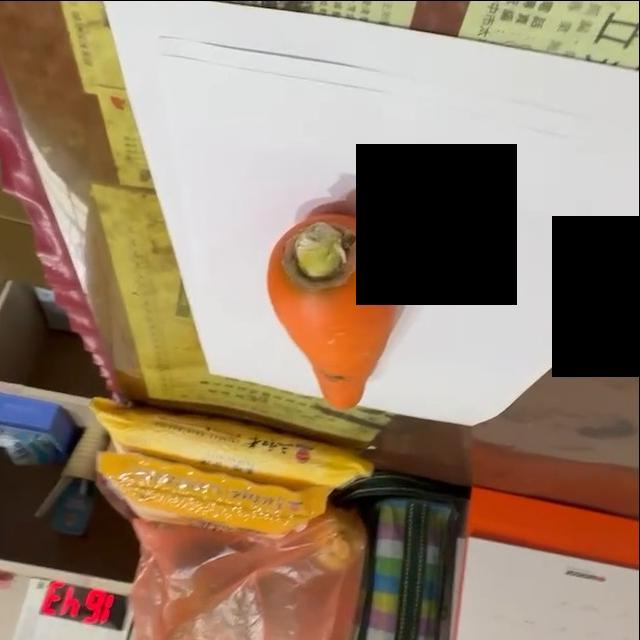carrot: (266, 211, 405, 413)
